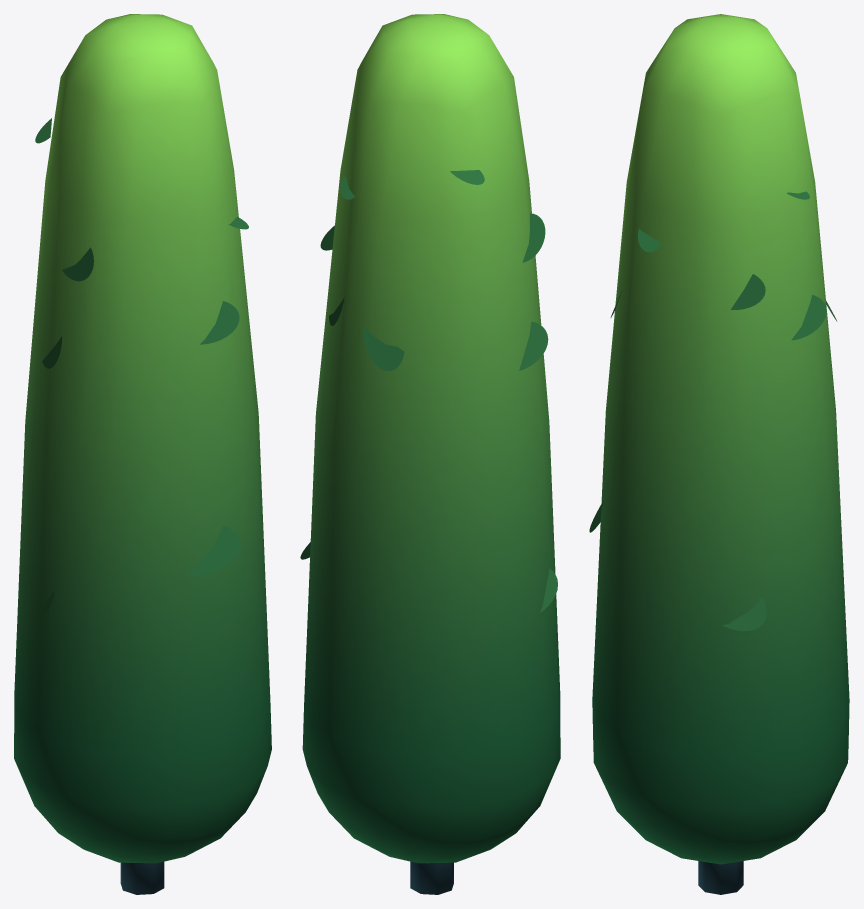
Rendered from Tree1.glb.
The picture shows the model from 3 angles, left to right: view 1: azimuth 30°, elevation 25°; view 2: azimuth 150°, elevation 25°; view 3: azimuth 270°, elevation 25°; orthographic projection.
Visible parts, largest first — view 1: Tree1; view 2: Tree1; view 3: Tree1.
Part boxes in pixels (box(x1,y1,x2,y2)): Tree1: box(14, 14, 271, 894); Tree1: box(300, 14, 560, 894); Tree1: box(589, 14, 849, 894).
Bounding box in the file's own units: 0.5336 × 1.97 × 0.5382.
Materials: 1 (1 with a texture image).
